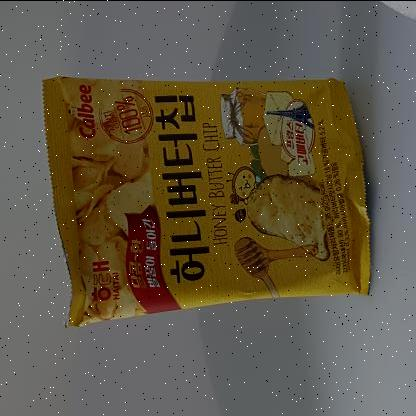Others: (37, 60, 383, 332)
